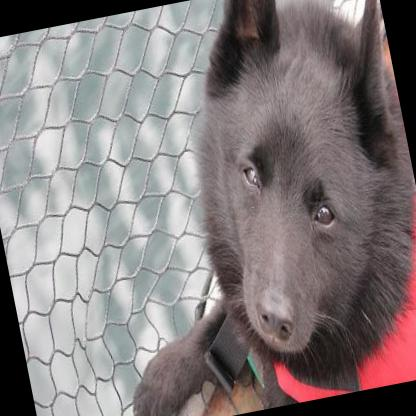schipperke: (58, 0, 416, 416)
